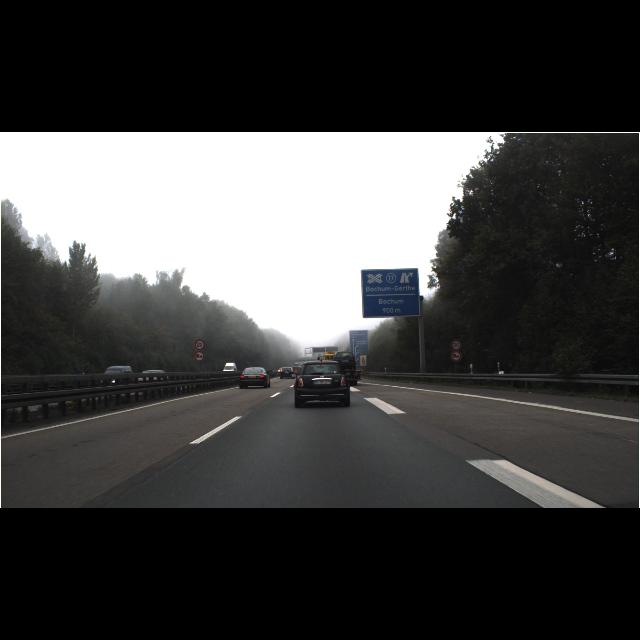prohibitory: (450, 350, 462, 362), (193, 350, 205, 362), (194, 340, 206, 350), (451, 340, 462, 350)
